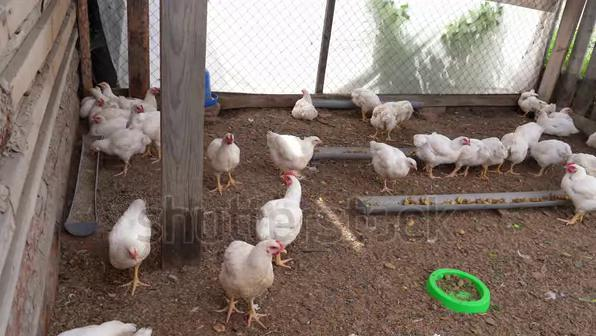Pollos: (219, 236, 286, 300), (110, 201, 150, 264), (262, 173, 304, 227), (366, 142, 413, 181), (561, 161, 596, 209), (266, 133, 323, 162), (526, 138, 565, 177), (371, 99, 415, 133), (415, 133, 472, 158), (207, 131, 239, 175), (537, 106, 580, 137), (91, 137, 145, 158), (131, 101, 163, 134), (88, 87, 126, 111), (295, 86, 321, 121), (477, 137, 509, 163), (345, 86, 379, 110), (93, 113, 123, 136)
